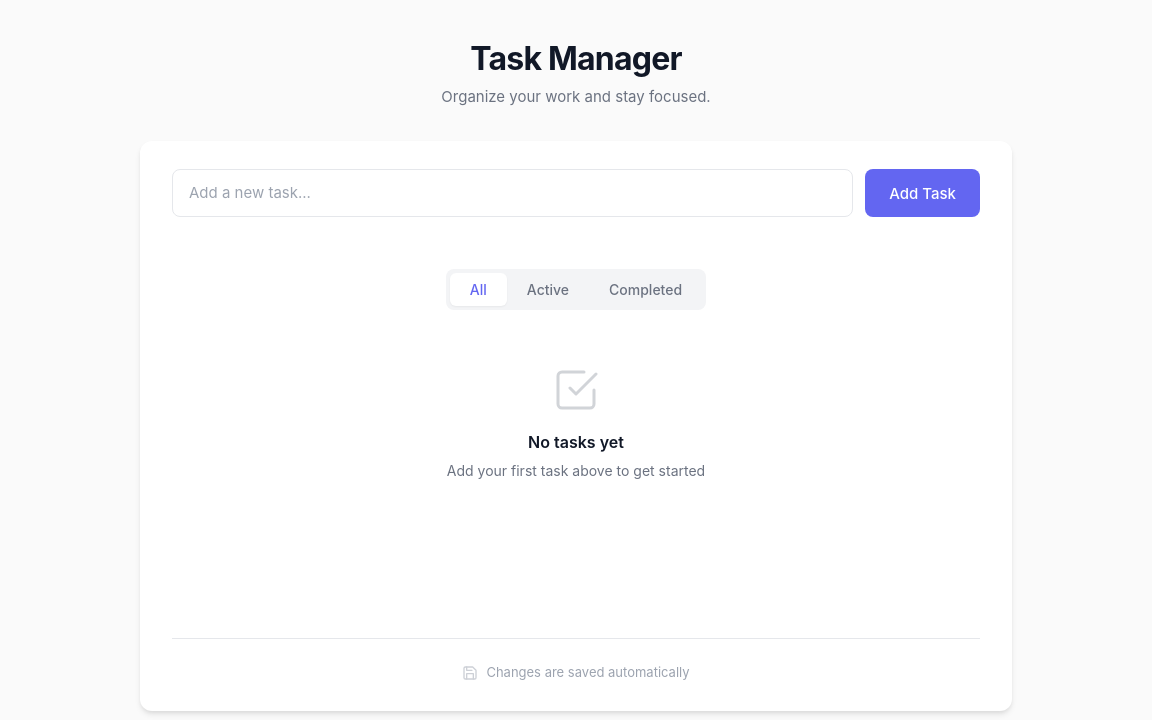
App integration tests › validates form input
Click the button "Add Task".
click(923, 193)  # box [865,169,980,217]
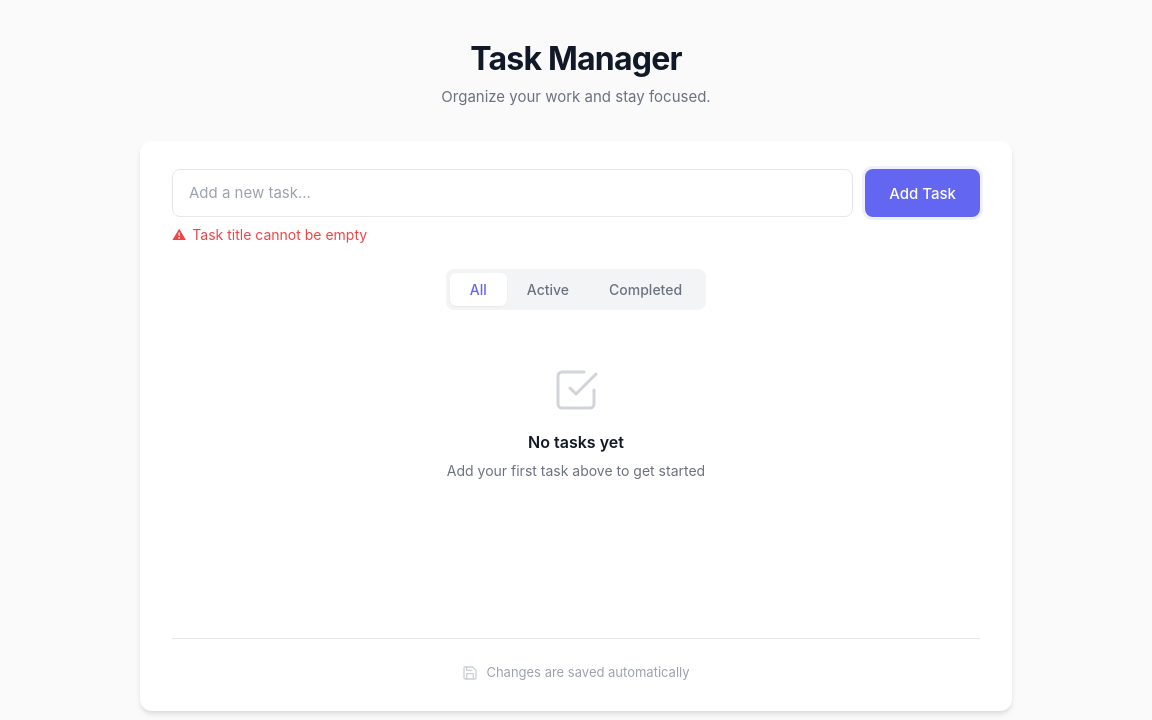
Expected: the text "Task title cannot be empty" is shown, [192,226,367,243]
